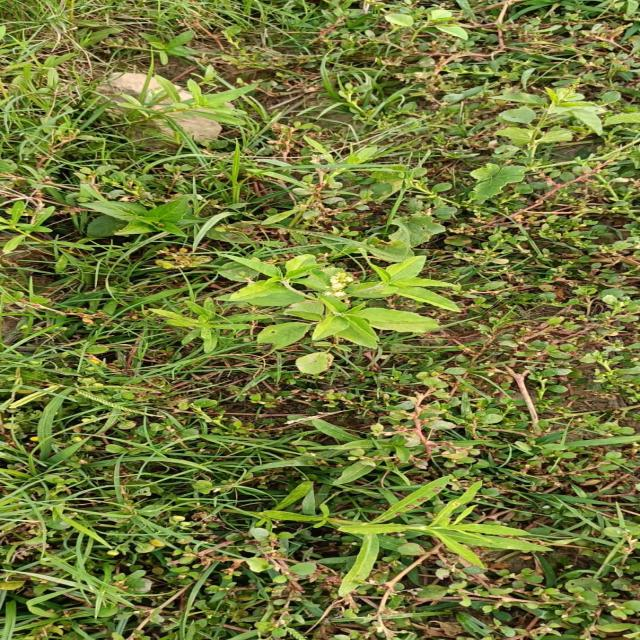plant: (257, 477, 548, 596), (219, 241, 461, 350), (492, 87, 638, 161), (471, 164, 557, 199), (294, 346, 335, 375)
